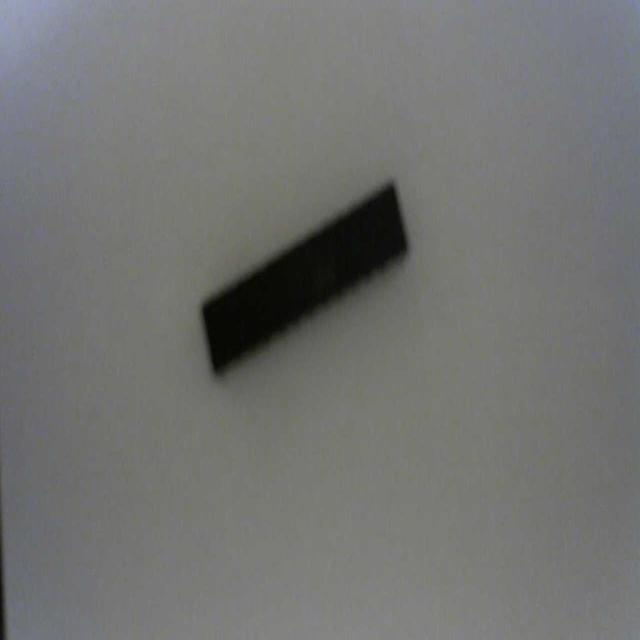atmega: (199, 175, 411, 380)
